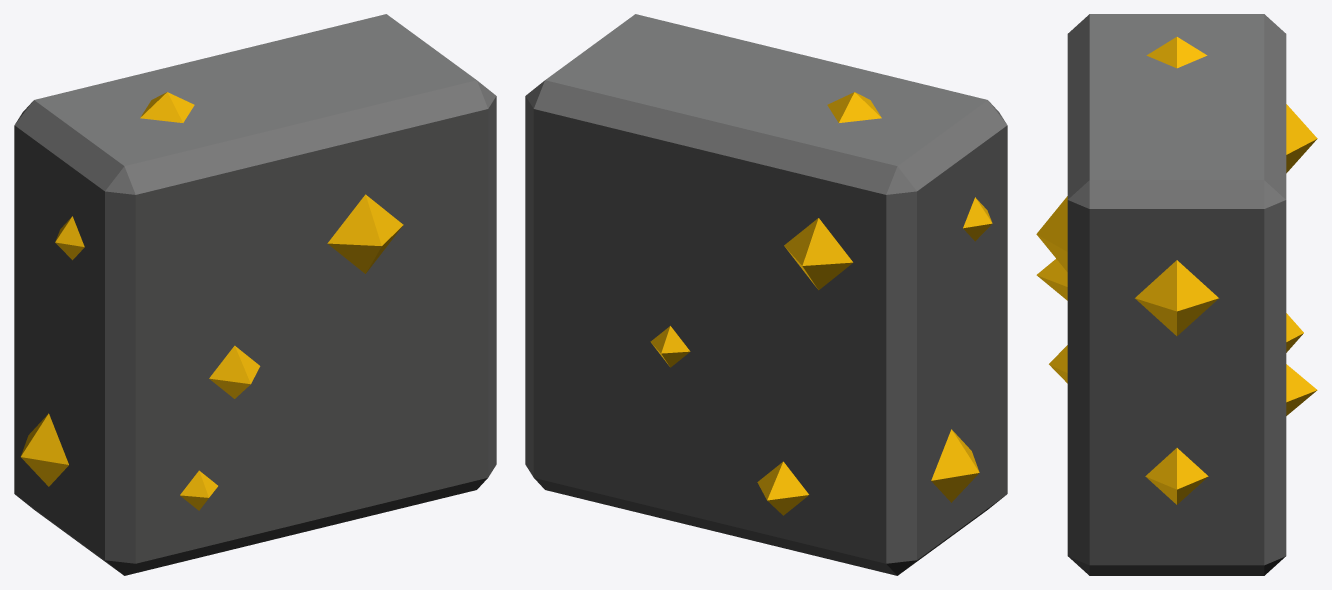
The model's file is m_kub_ore_halfBig.FBX.
The picture shows the model from 3 angles, left to right: view 1: azimuth 30°, elevation 25°; view 2: azimuth 150°, elevation 25°; view 3: azimuth 270°, elevation 25°; orthographic projection. The views are drawn at different scales.
Parts seen in each view (by area): view 1: m_kub_ore_halfBig; view 2: m_kub_ore_halfBig; view 3: m_kub_ore_halfBig.
Part boxes in pixels (x1,y1,x2,y2): m_kub_ore_halfBig: (14,14,496,575); m_kub_ore_halfBig: (525,14,1007,575); m_kub_ore_halfBig: (1036,14,1317,575).
Bounding box in the file's own units: 2.29 × 2.1 × 1.29.
